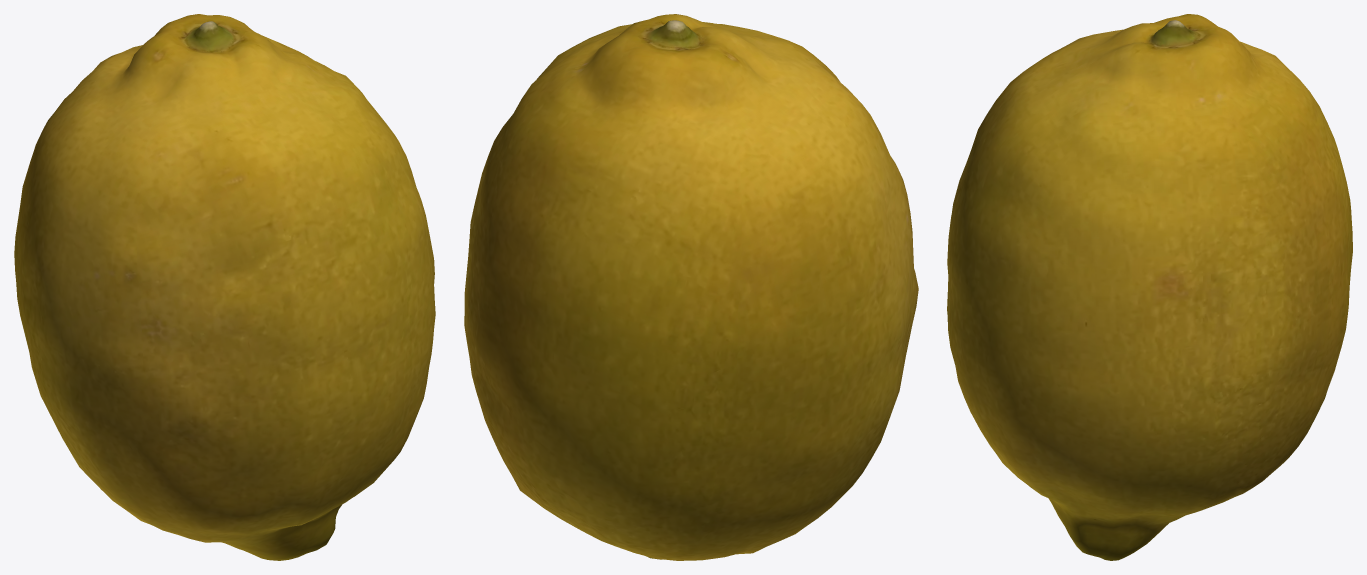
File: lemon.glb
3 views of the same model, side by side, from view 1: azimuth 30°, elevation 25°; view 2: azimuth 150°, elevation 25°; view 3: azimuth 270°, elevation 25° (orthographic). The views are drawn at different scales.
Visible parts, largest first — view 1: lemon; view 2: lemon; view 3: lemon.
Part boxes in pixels (x1,y1,x2,y2): lemon: (14,14,435,560); lemon: (464,14,918,560); lemon: (947,14,1352,560).
Bounding box in the file's own units: 0.0687 × 0.0954 × 0.0683.
Materials: 1 (1 with a texture image).
